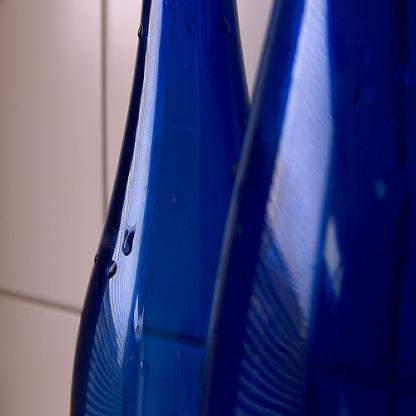bottle: (67, 0, 319, 415), (197, 0, 415, 414)
